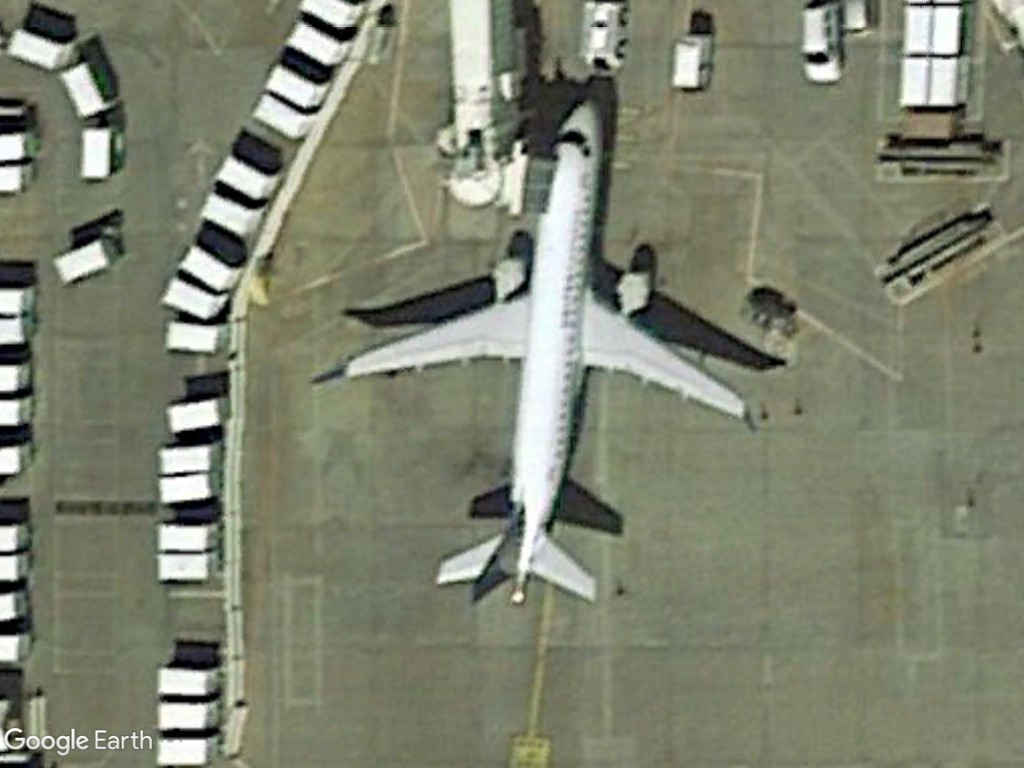airliner: (326, 90, 764, 609)
van: (795, 3, 849, 84)
